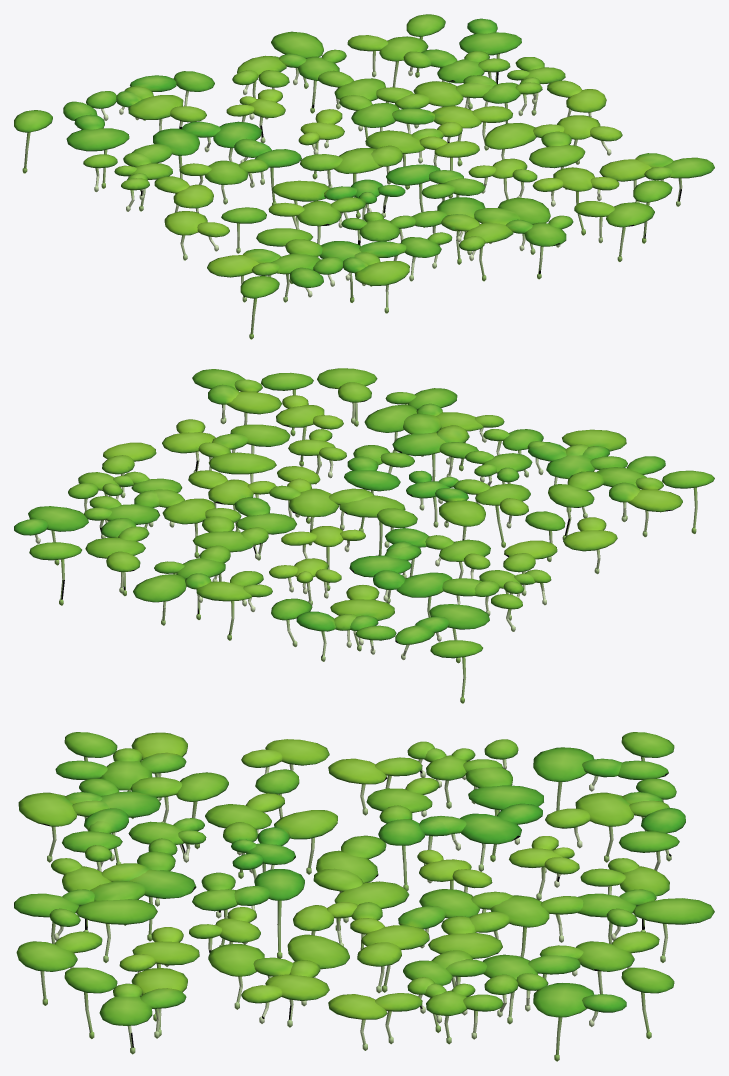
The model's file is duckweed_tile.glb.
3 views of the same model, one above another, from view 1: azimuth 30°, elevation 25°; view 2: azimuth 150°, elevation 25°; view 3: azimuth 270°, elevation 25° (orthographic). The views are drawn at different scales.
Parts seen in each view (by area): view 1: DuckweedTile; view 2: DuckweedTile; view 3: DuckweedTile.
Boxes of the visible parts, box(x1,y1,x2,y2) form: DuckweedTile: box(14, 14, 714, 339); DuckweedTile: box(14, 368, 714, 703); DuckweedTile: box(14, 732, 714, 1061).
Size of the model in its own units: 4.98 by 0.5996 by 5.03.
1 material, 1 textured.
